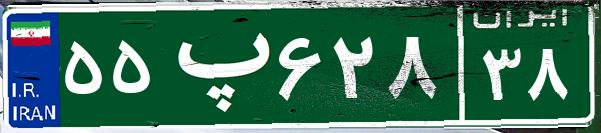2: (330, 28, 385, 110)
3: (475, 38, 525, 113)
5: (57, 26, 110, 107), (110, 28, 158, 105)
6: (273, 28, 330, 110)
8: (385, 28, 445, 110), (525, 38, 570, 115)
پ: (158, 15, 273, 115)
